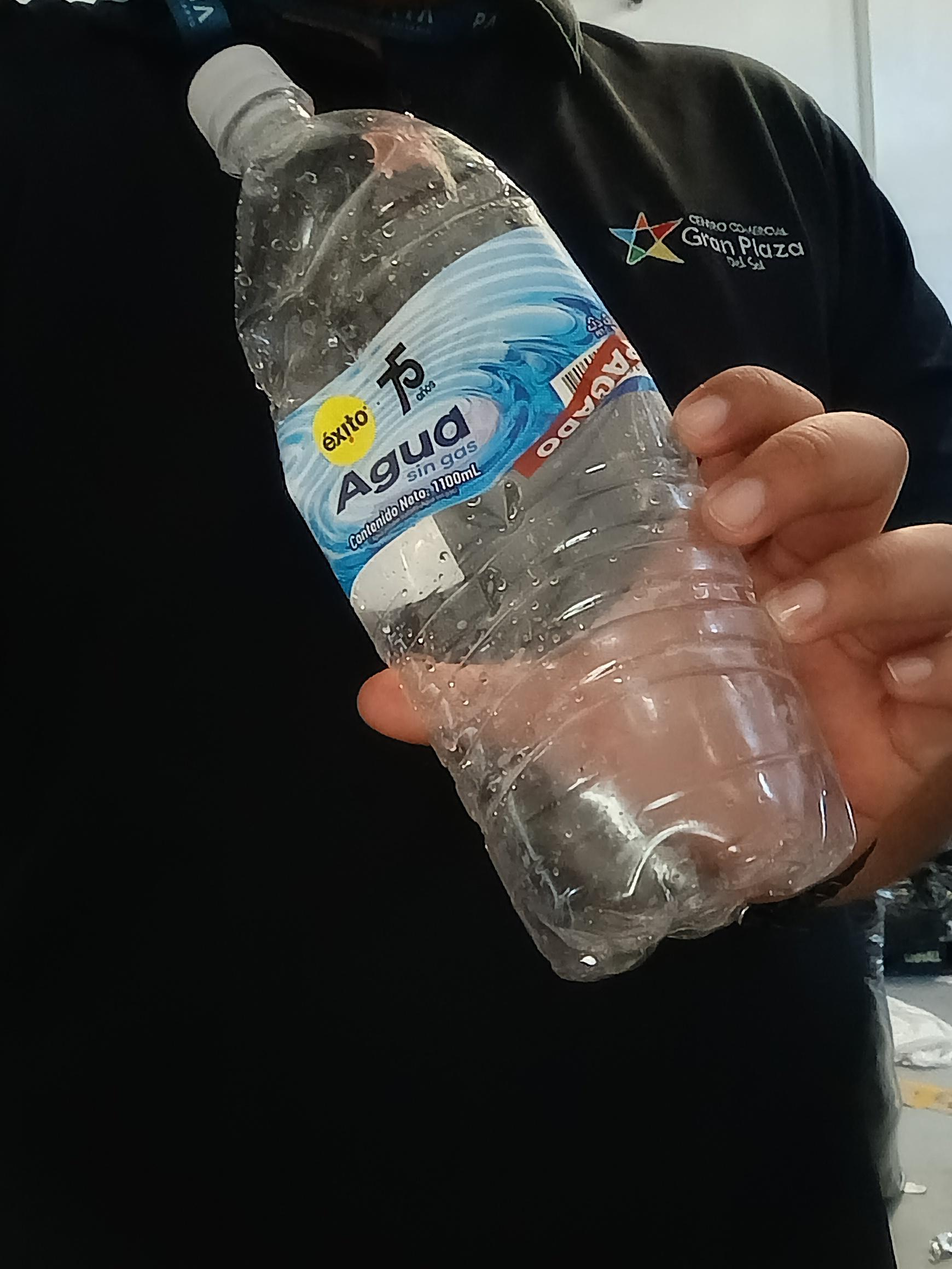Plastico: (186, 42, 859, 979)
